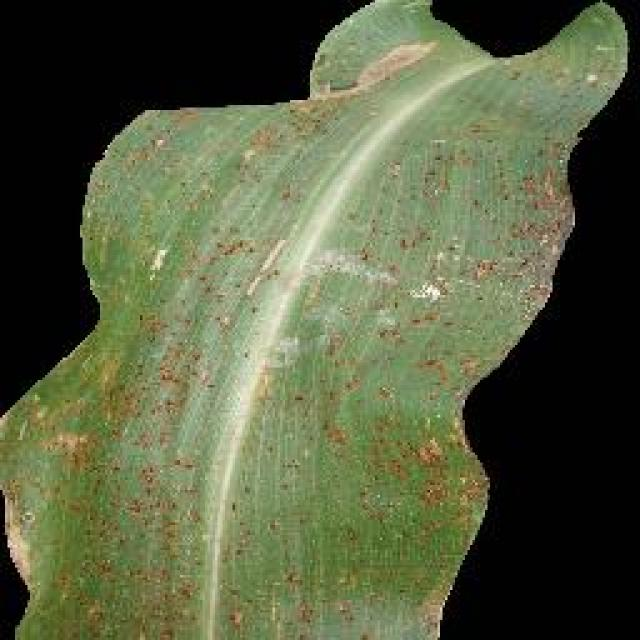Corn___Common_rust: (69, 127, 474, 617)
